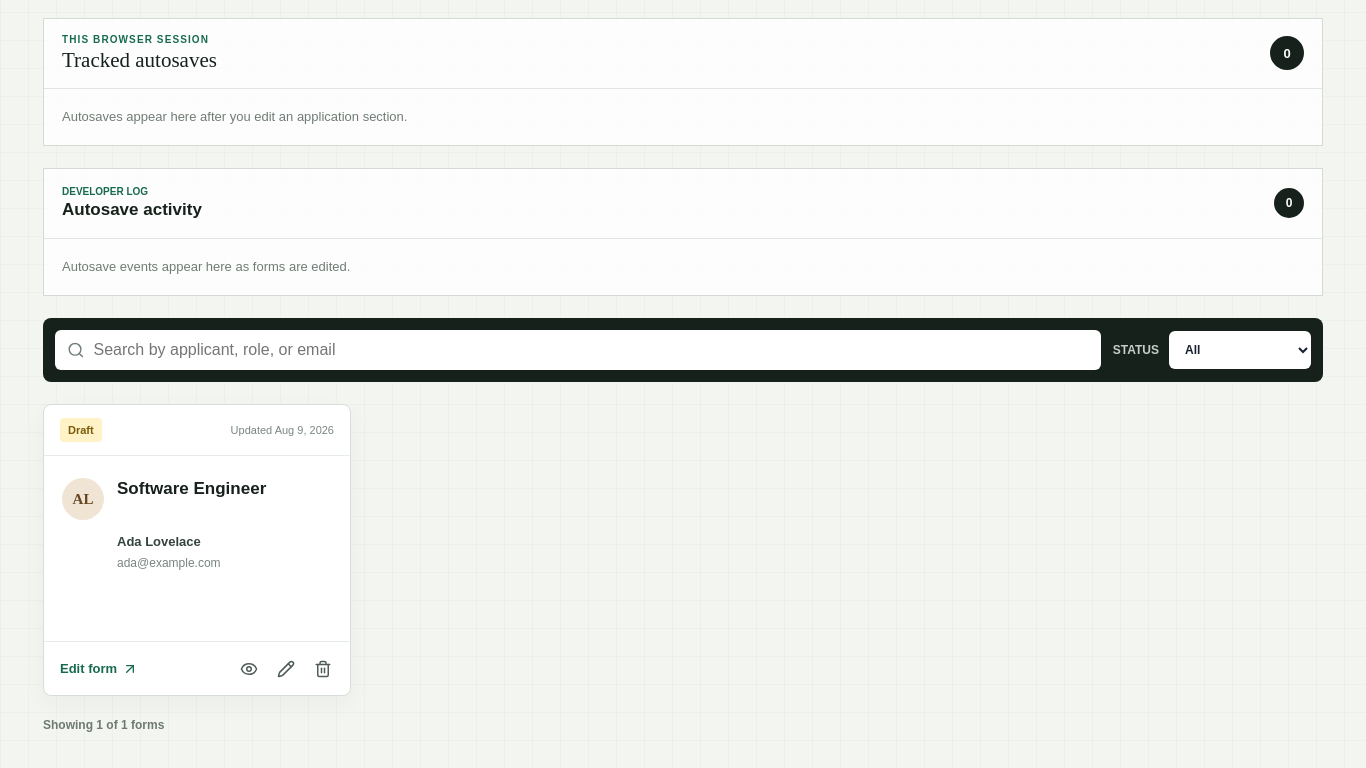
Test: FormsDashboard › reports delete failures without closing the dialog
(page scrolled)
Click the button named "Delete Ada Lovelace's form": coordinates (323, 669) [306,652,340,686]
(page scrolled)
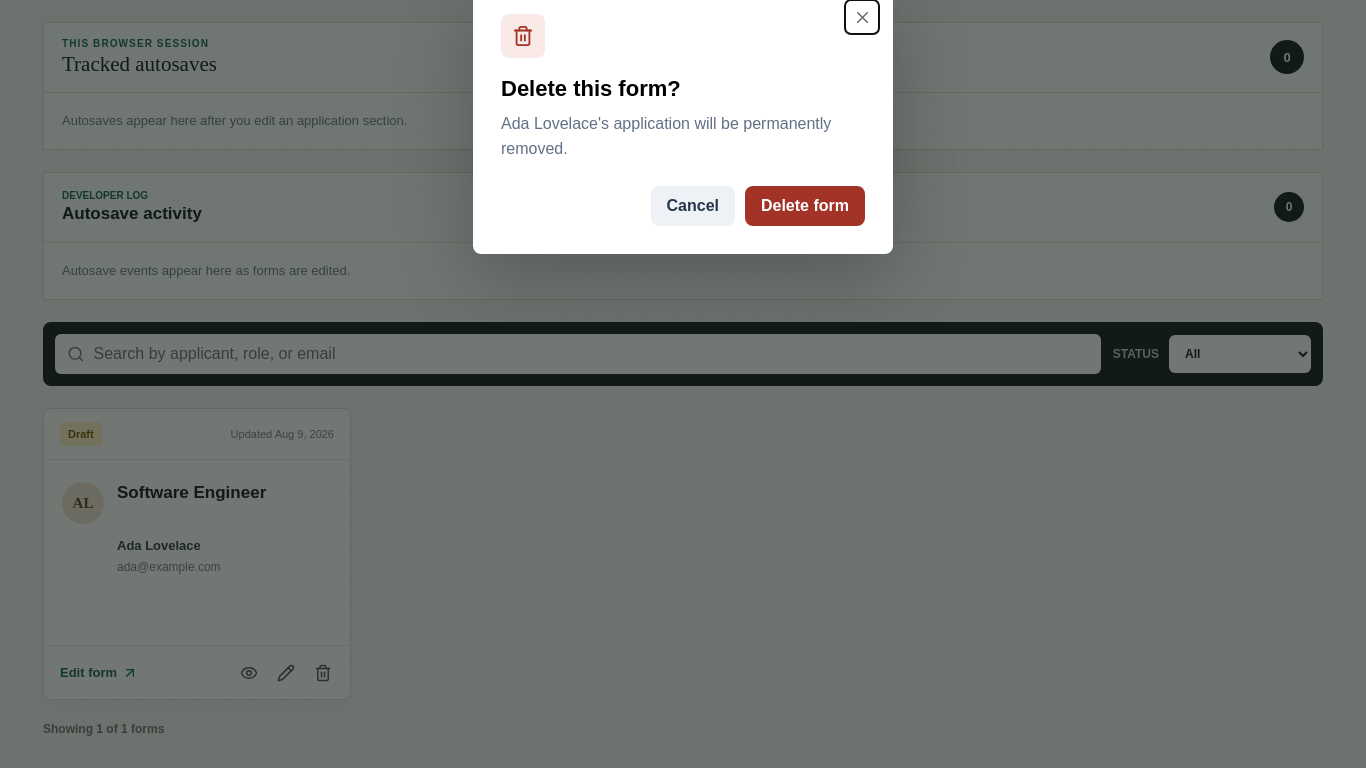
Click the button "Delete form": coordinates (805, 206) [745,186,865,226]
(page scrolled)
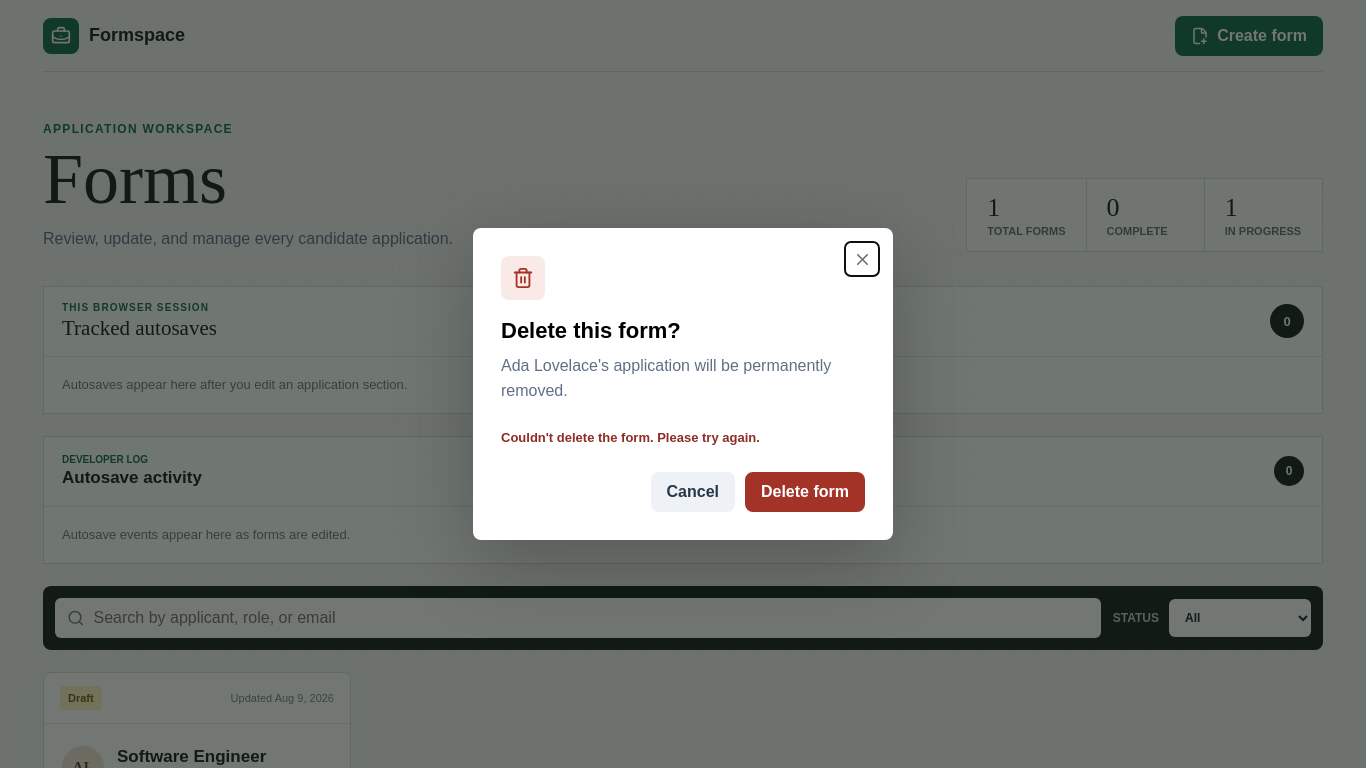
Expected: the dialog is shown, [473,228,893,540]
Expected: the message shows "Couldn't delete the form", [501,430,760,445]
